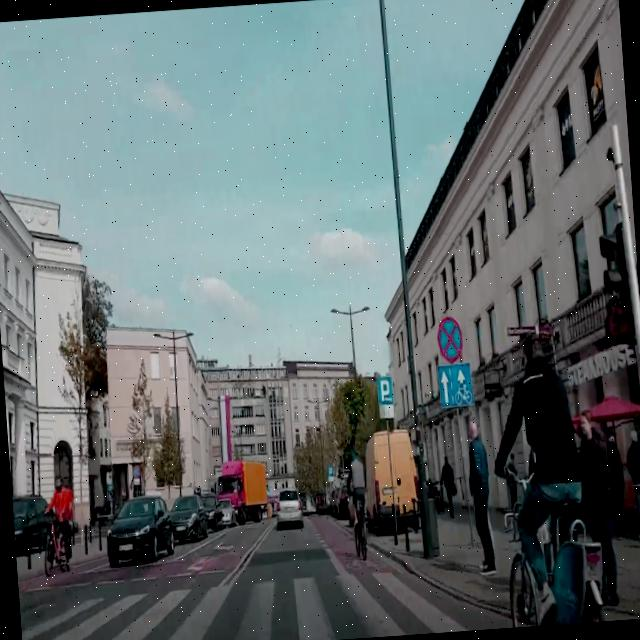Zakaz zatrzymywania sie: (434, 316, 464, 362), (131, 463, 140, 478)
